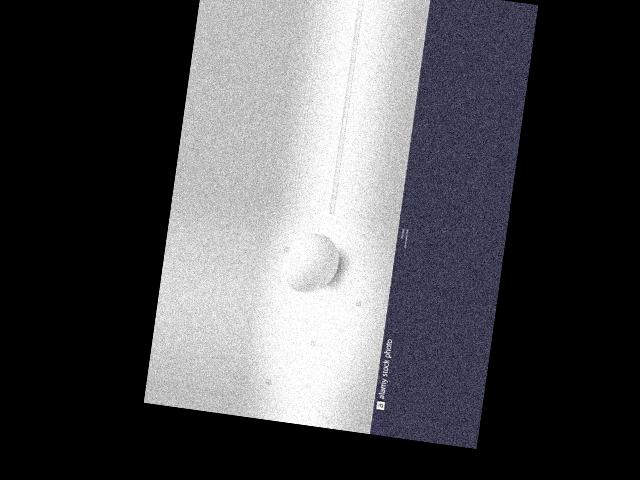egg: (280, 228, 343, 296)
